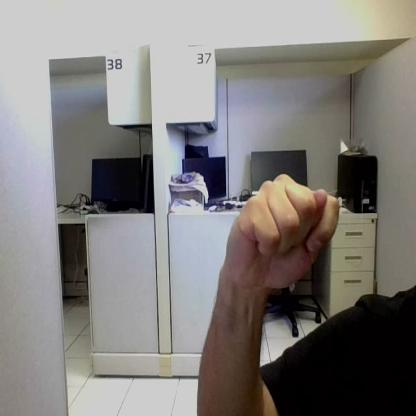T: (226, 173, 338, 287)
